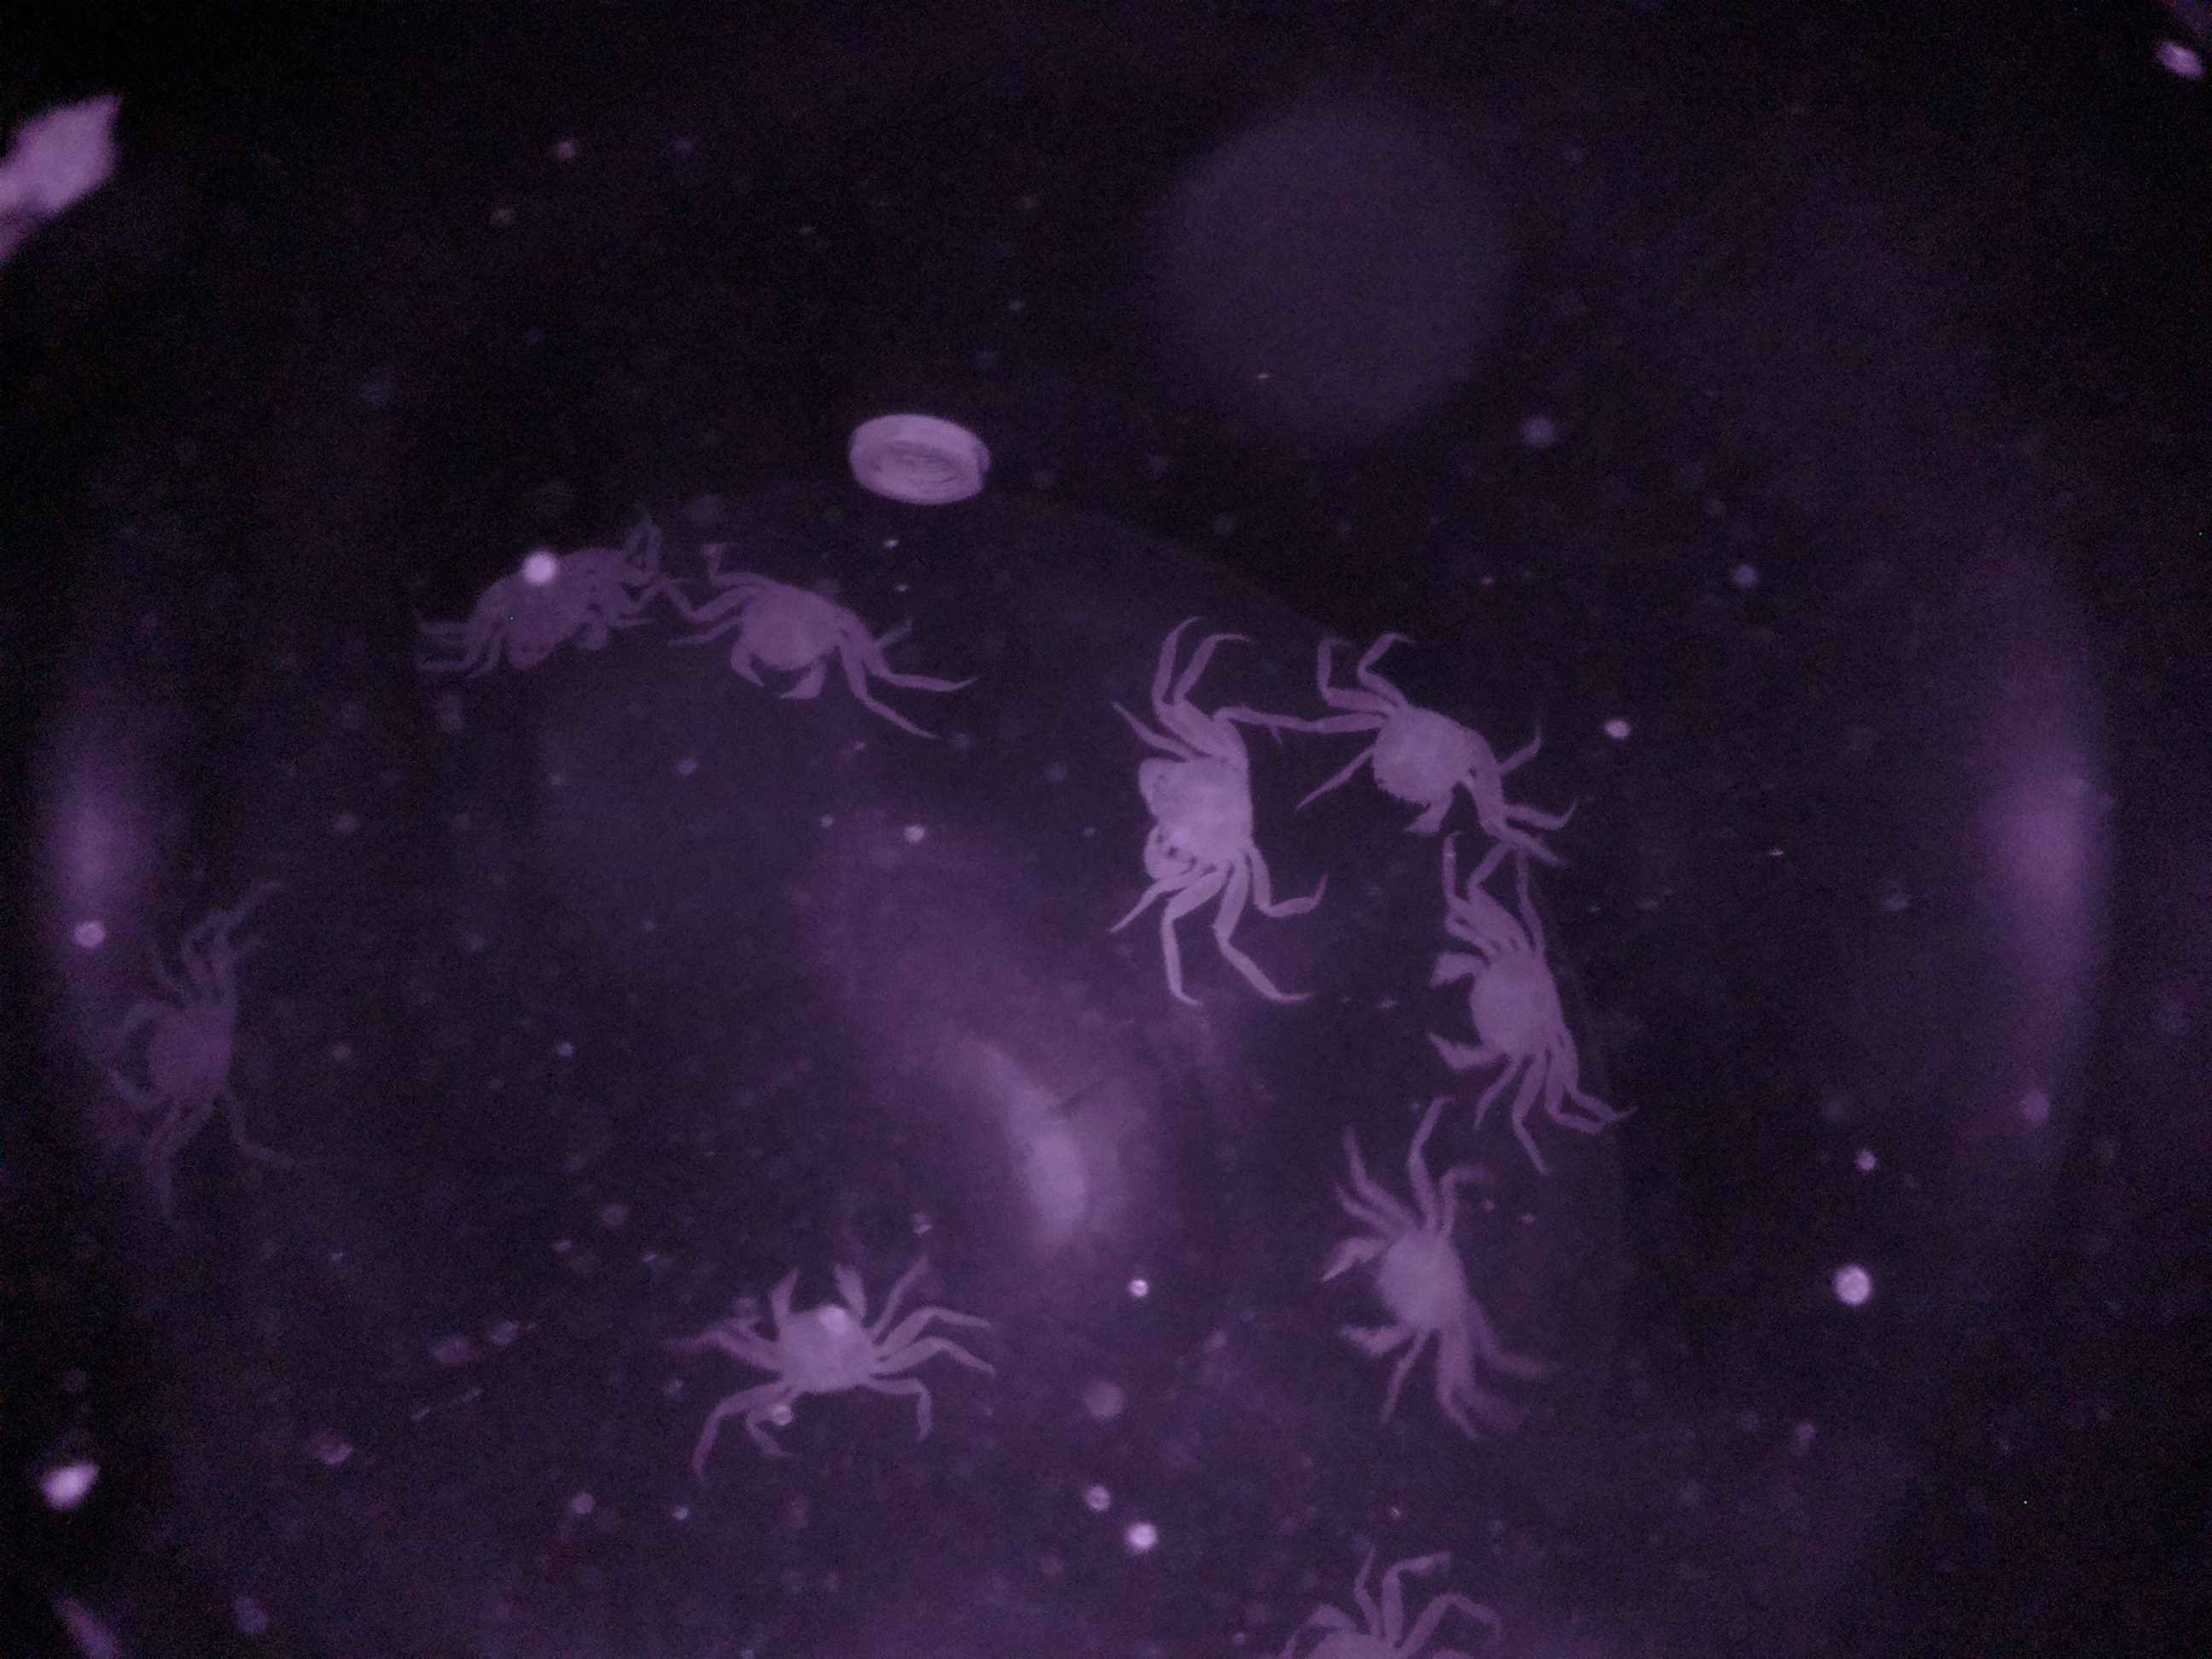Crab: (1284, 1188, 1505, 1399), (1306, 664, 1526, 852), (691, 538, 906, 718), (442, 521, 674, 687), (1409, 911, 1608, 1100), (1113, 704, 1270, 932), (733, 1241, 907, 1417)
